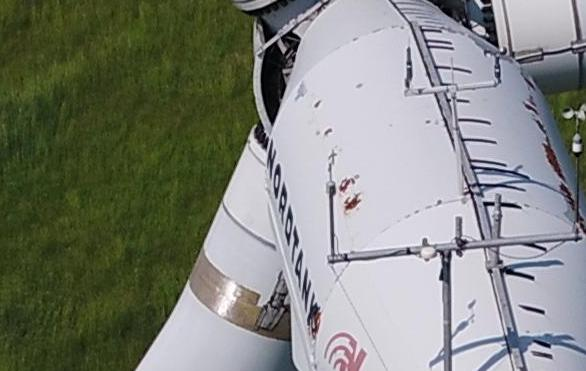damage: (559, 182, 586, 233), (542, 135, 566, 180), (344, 191, 364, 215), (339, 174, 359, 194), (520, 73, 536, 91), (523, 96, 538, 114), (294, 81, 306, 101), (533, 119, 547, 135), (317, 128, 333, 136), (313, 99, 321, 108), (355, 83, 363, 89)
